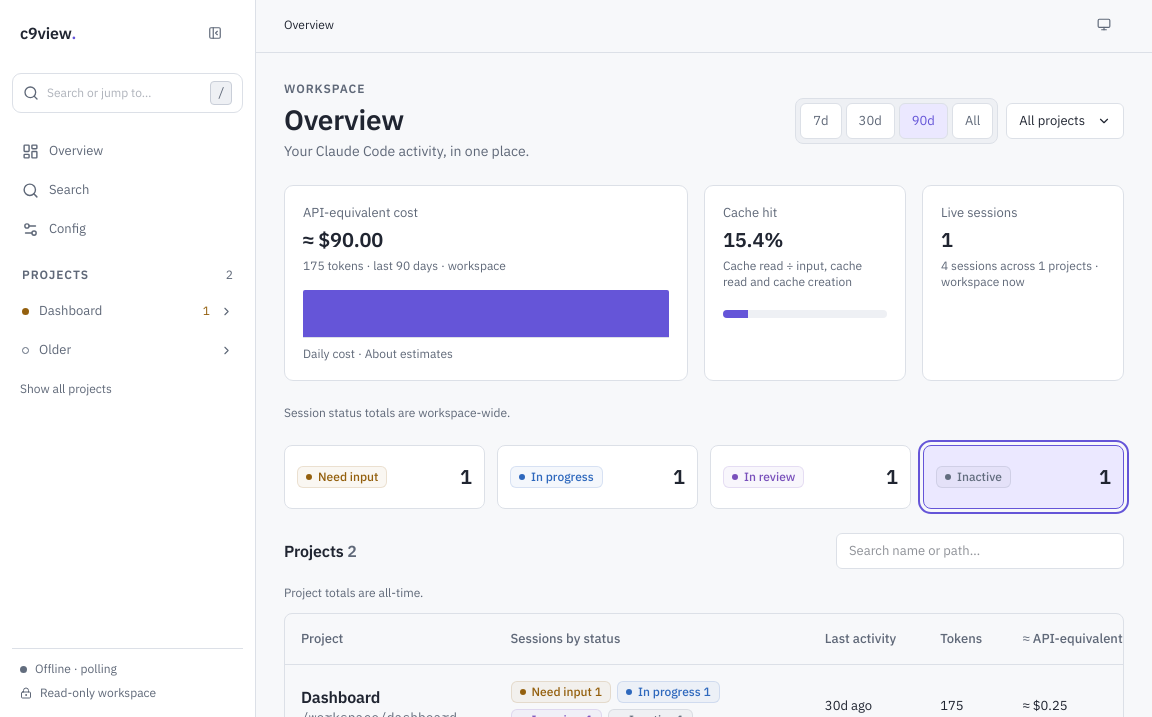
Scenario: round-trips the inactive status and toggles it off with a native keyboard-operable button
Later steps or results of the test are not shown.
Click the button "Inactive 1": (1024, 477) top-left (923, 445), bottom-right (1124, 509)
(page scrolled)
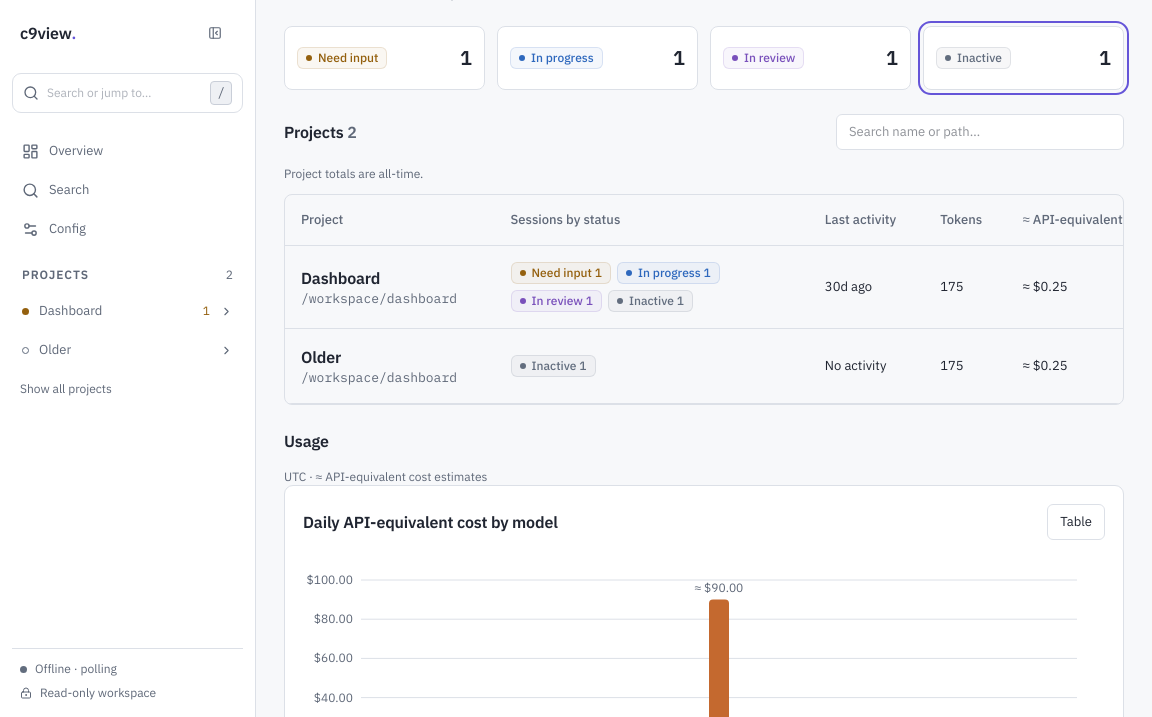
expect the link "Older" in the row of "No activity" is shown: met, box top-left (301, 347), bottom-right (341, 367)
expect the button "Inactive 1" is not pressed: met, box top-left (923, 26), bottom-right (1124, 90)
